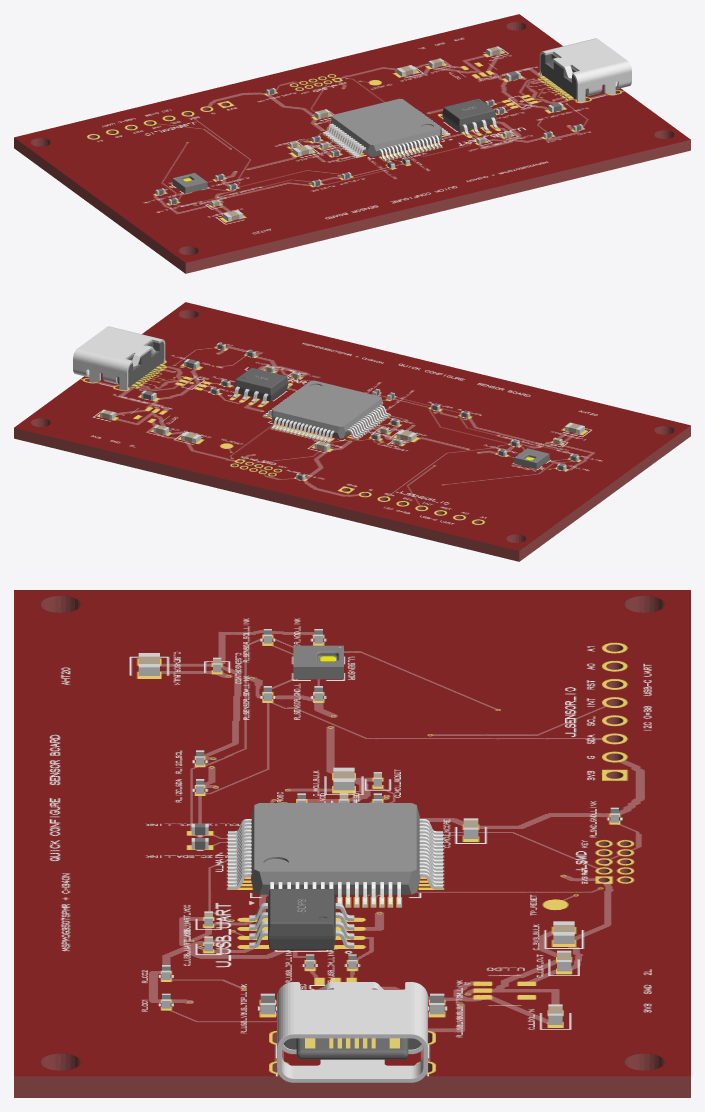
3 renders of one model, top to bottom at view 1: azimuth 30°, elevation 25°; view 2: azimuth 150°, elevation 25°; view 3: azimuth 270°, elevation 25°, orthographic. The views are drawn at different scales.
Visible parts, largest first — view 1: Box0, U_MAIN, J_USB, U_USB_UART, U_SENSOR; view 2: Box0, U_MAIN, J_USB, U_USB_UART, U_SENSOR; view 3: Box0, U_MAIN, J_USB, U_USB_UART, U_SENSOR.
Part boxes in pixels (x1,y1,x2,y2): Box0: (14, 14, 690, 273); U_MAIN: (322, 98, 450, 161); J_USB: (539, 38, 631, 102); U_USB_UART: (440, 98, 498, 135); U_SENSOR: (172, 173, 207, 193); Box0: (14, 302, 690, 561); U_MAIN: (263, 380, 390, 442); J_USB: (73, 326, 165, 390); U_USB_UART: (232, 368, 290, 404); U_SENSOR: (514, 448, 549, 469); Box0: (14, 590, 690, 1097); U_MAIN: (228, 803, 442, 907); J_USB: (277, 982, 427, 1082); U_USB_UART: (249, 889, 354, 949); U_SENSOR: (293, 645, 343, 679).
Bounding box in the file's own units: 69.04 × 4.65 × 40.
Materials: 20 (2 with a texture image).
